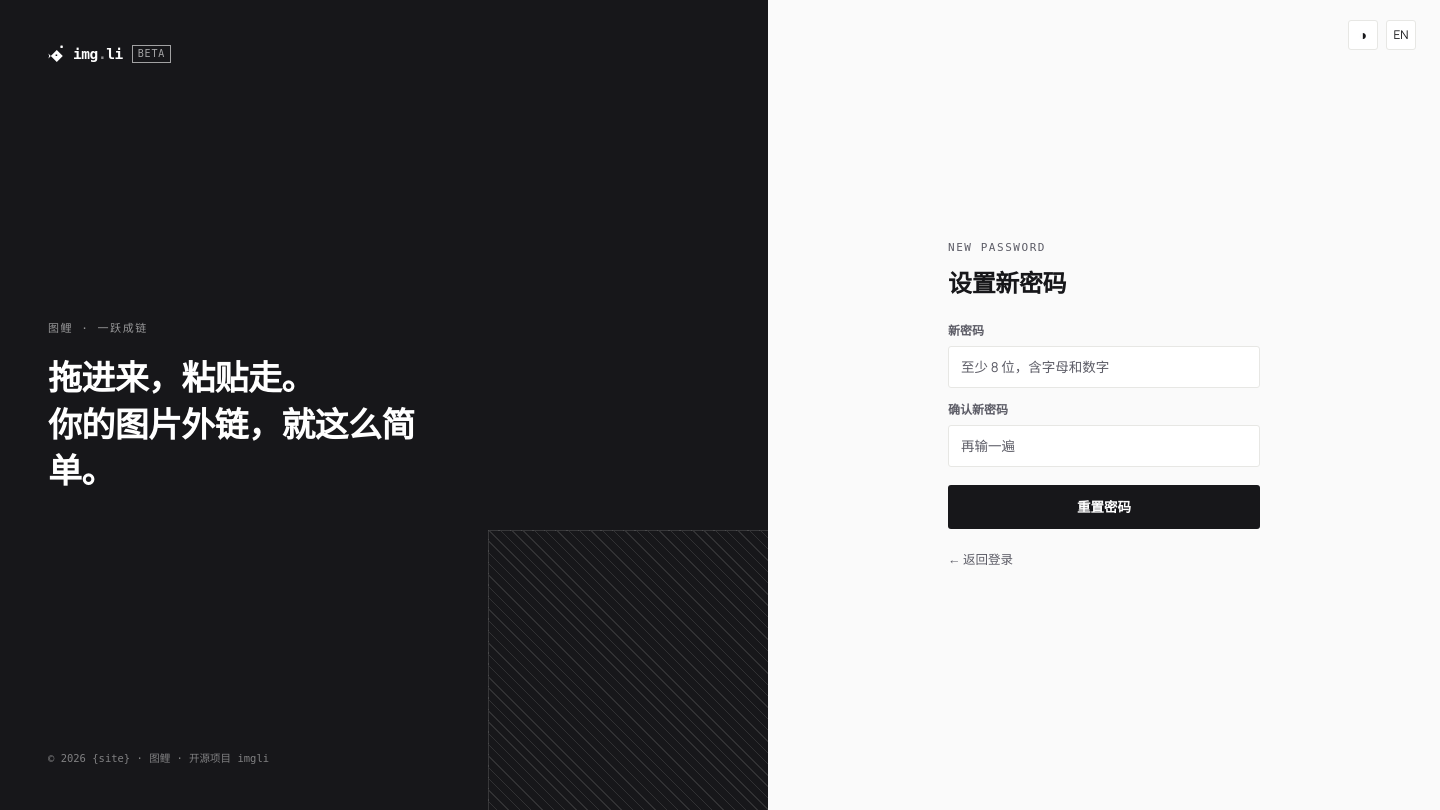
Test: 重置密码:两次输入不一致行内错
Type "newpass-111" into the password field labelled "新密码". click: {"x": 1104, "y": 367}
box: [948, 346, 1260, 388]
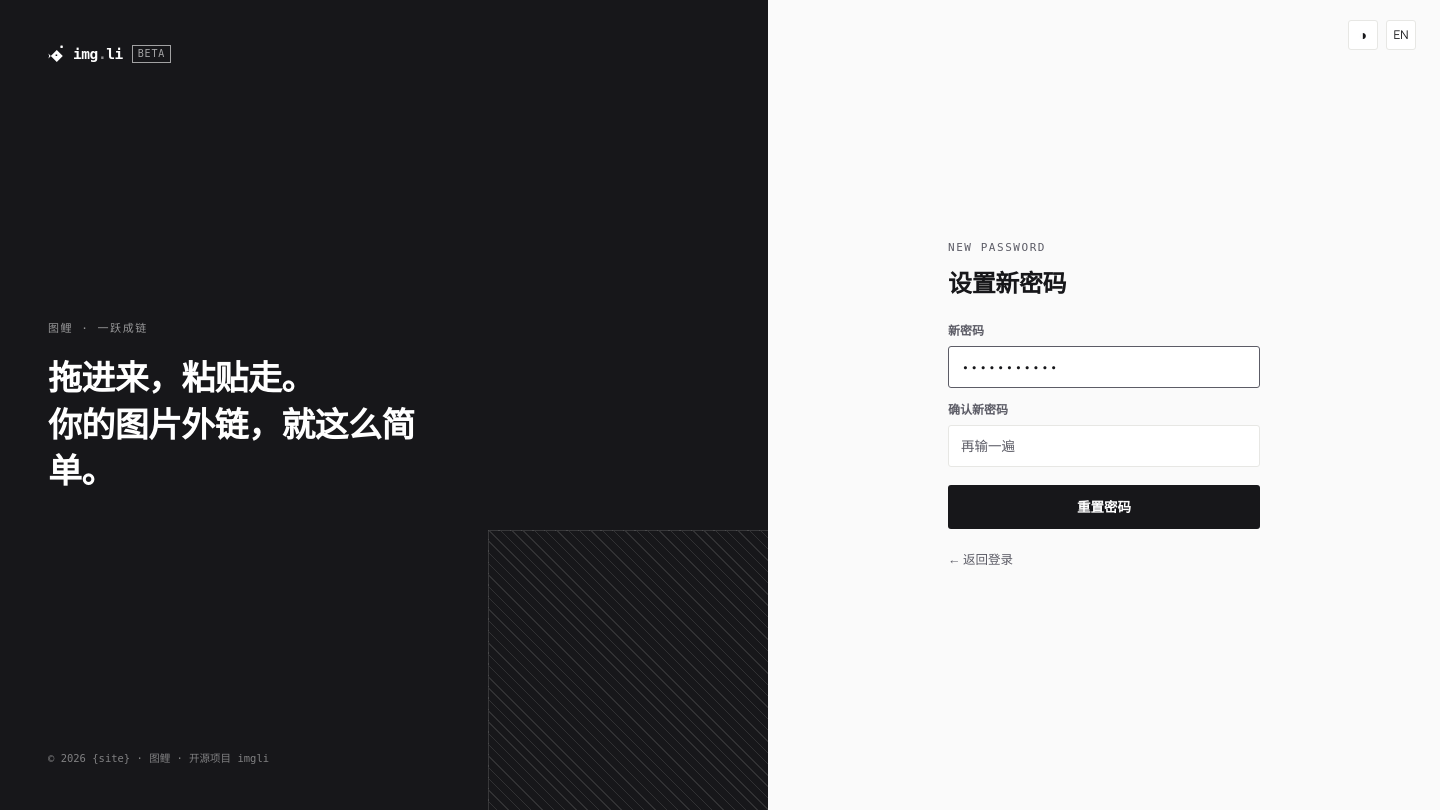
Type "different-1" into the password field labelled "确认新密码". click: {"x": 1104, "y": 446}
box: [948, 425, 1260, 467]
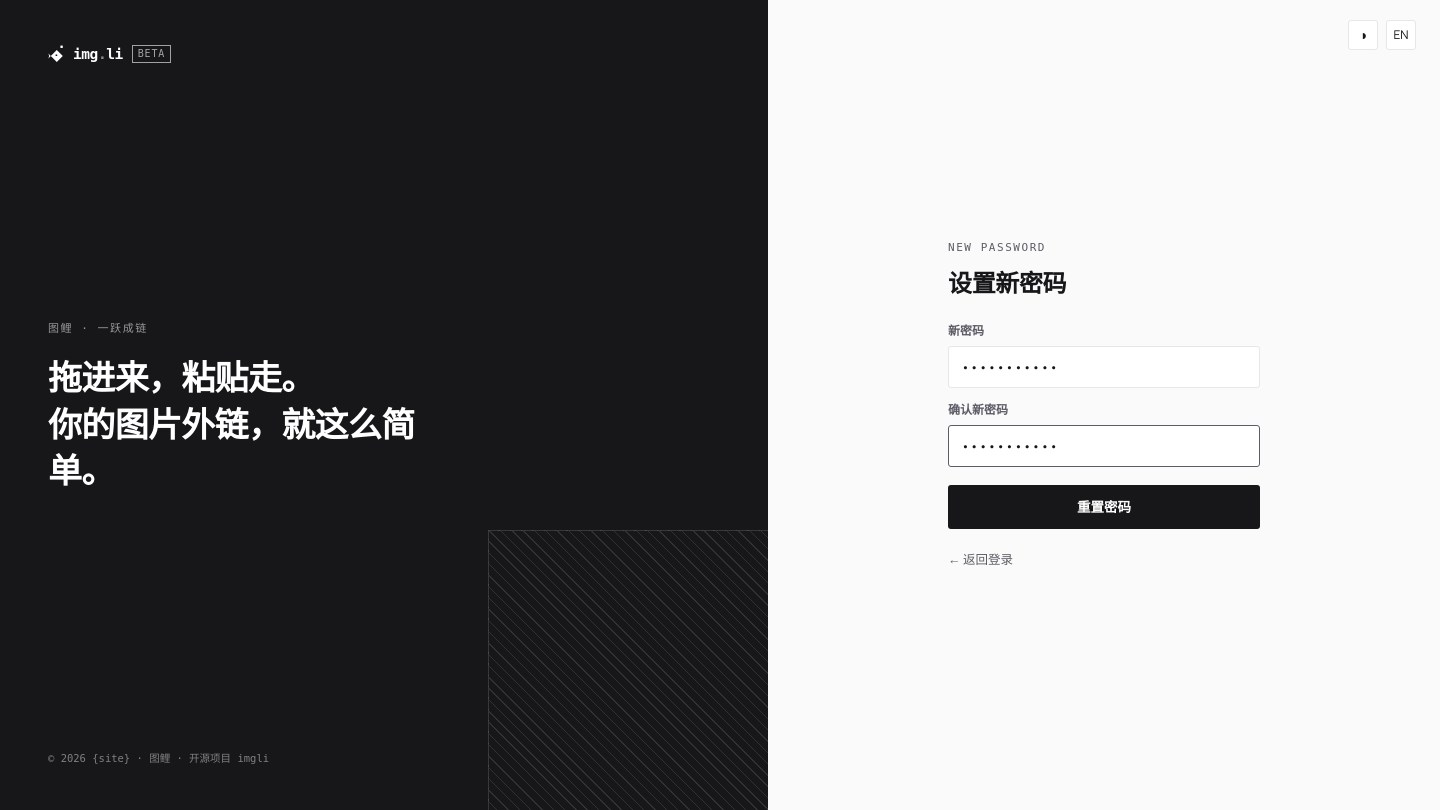
Click the button "重置密码". click: {"x": 1104, "y": 507}
box: [948, 485, 1260, 529]
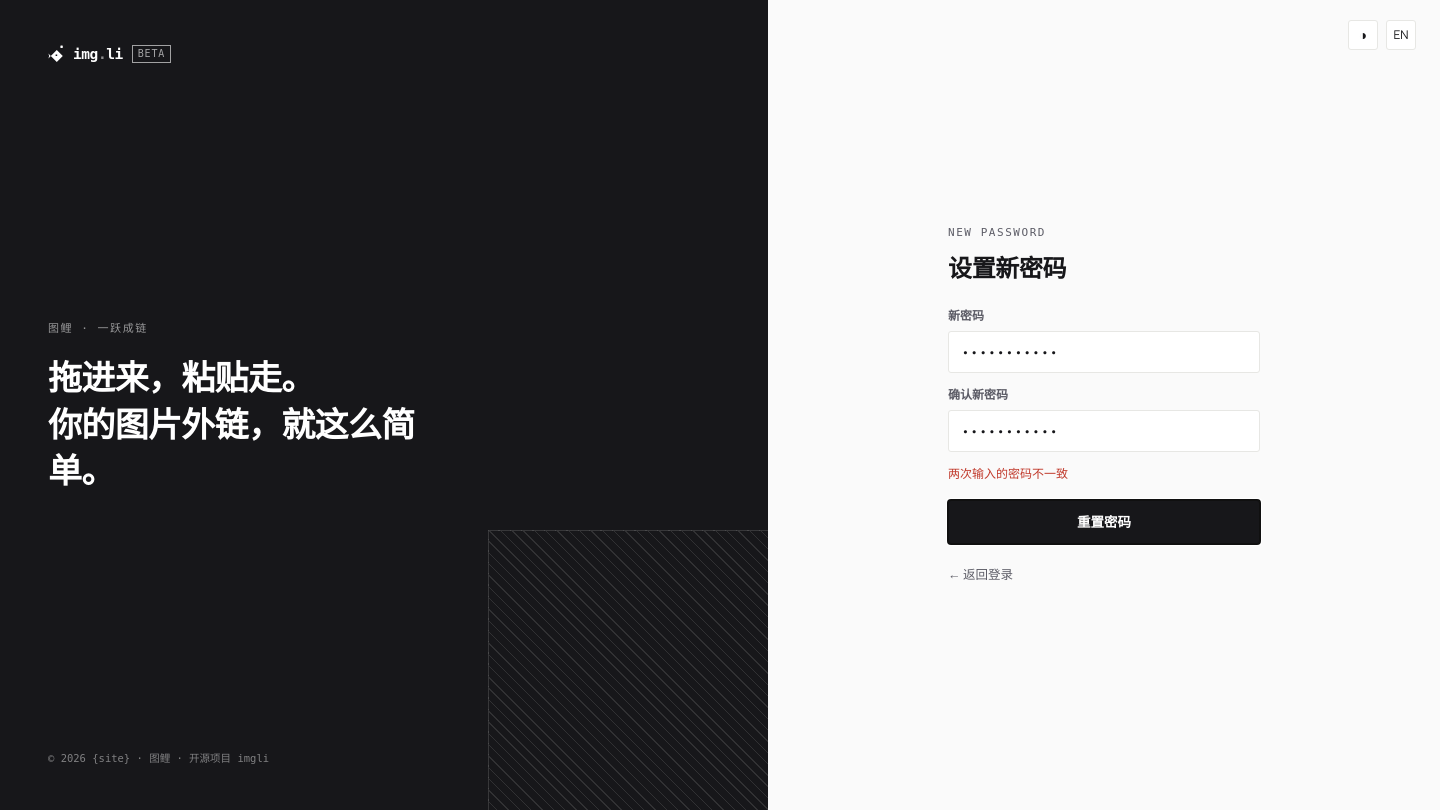
Now the text "两次输入的密码不一致" is shown, box [948, 465, 1068, 482]
